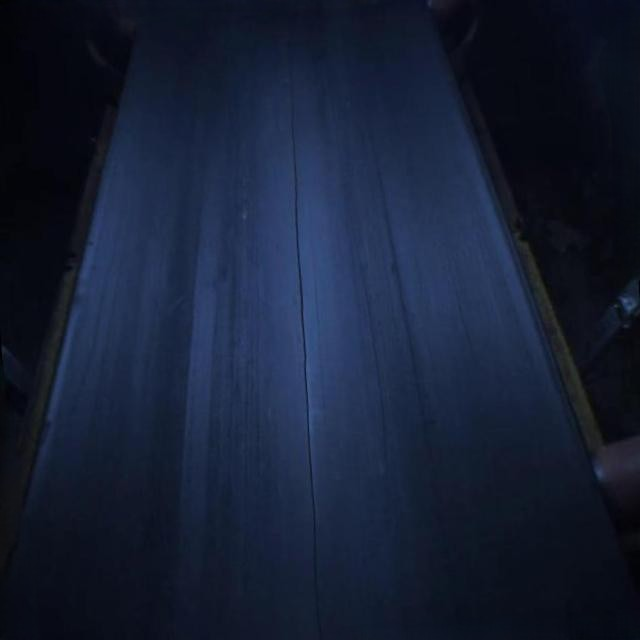Tear: (276, 56, 330, 640)
